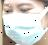with_mask: (1, 1, 48, 45)
